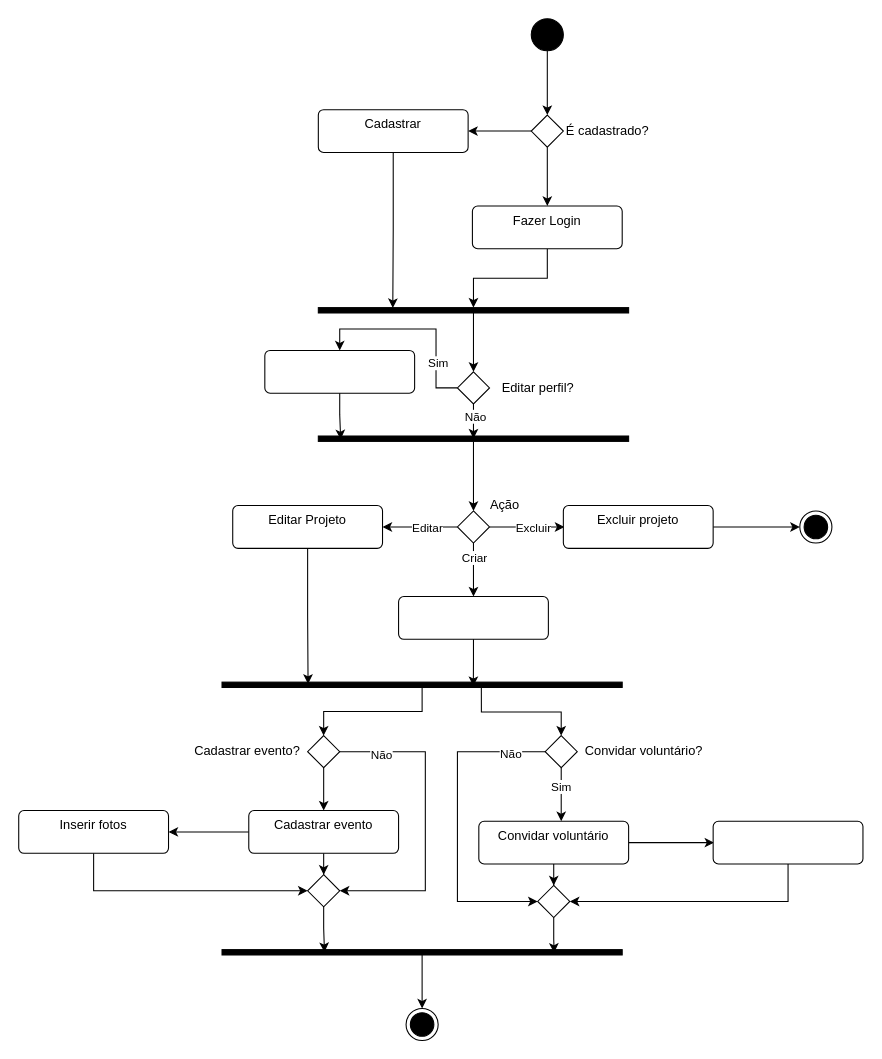
Image size: 882x1059. Some labels were removed from this diagram. The centre of each missing label's shape, as x and y in pixels:
Comunicar através de mensagens: point (787, 842)
Criar projeto: point (473, 617)
Editar Perfil: point (339, 371)
